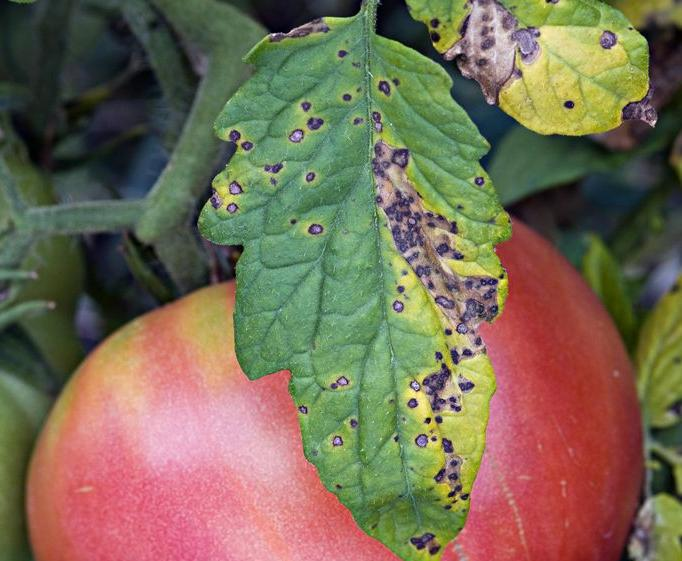Tomato Septoria leaf spot: (225, 9, 521, 561), (405, 0, 663, 138)
